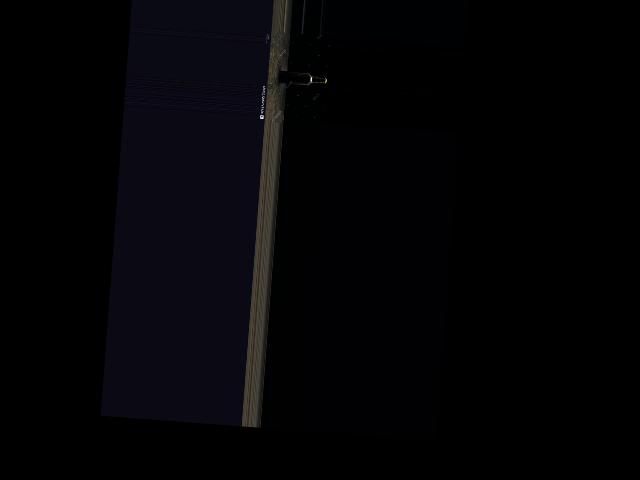beer: (278, 70, 326, 85)
